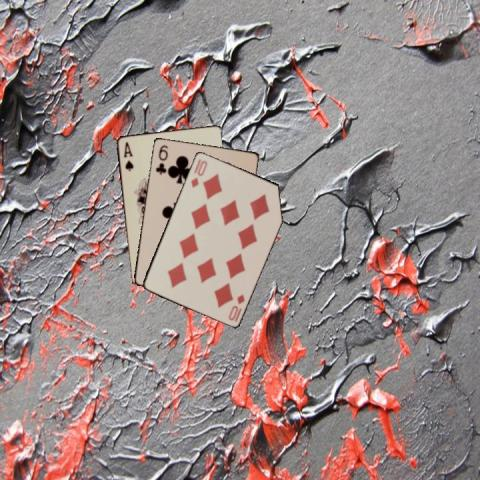10d: (188, 157, 209, 189), (225, 291, 246, 323)
6c: (153, 142, 169, 175)
As: (120, 138, 134, 172)
